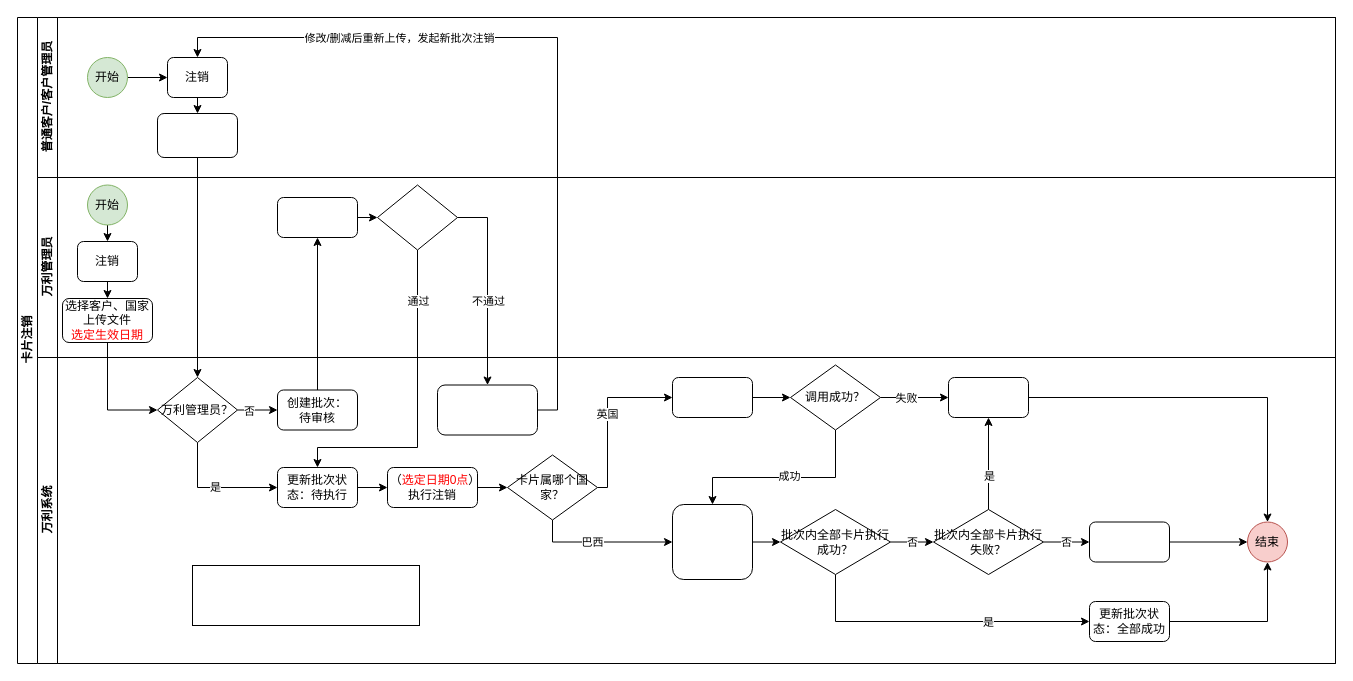
Some shapes in this 1353 by 681 pixel diagram are drawn without their labels. Here are the shapes that lost their labels. From the top down, the centre of each, then its label:
point (197, 135): 选择国家 上传文件 选定生效日期
point (317, 217): 审核
point (417, 217): 审核通过？
point (487, 409): 更新批次状态：已驳回（整批驳回）
point (712, 397): 调用英国API
point (988, 397): 更新批次状态：全部失败
point (712, 542): 尝试将批次内所有卡片状态更新为cancel（更新失败的状态保持原状）
point (1129, 541): 更新批次状态：部份成功
point (306, 595): 以单卡为维度的操作日志中，单卡在 提交/审核/待执行/该张执行完 等节点更新 该卡 的处理结果
